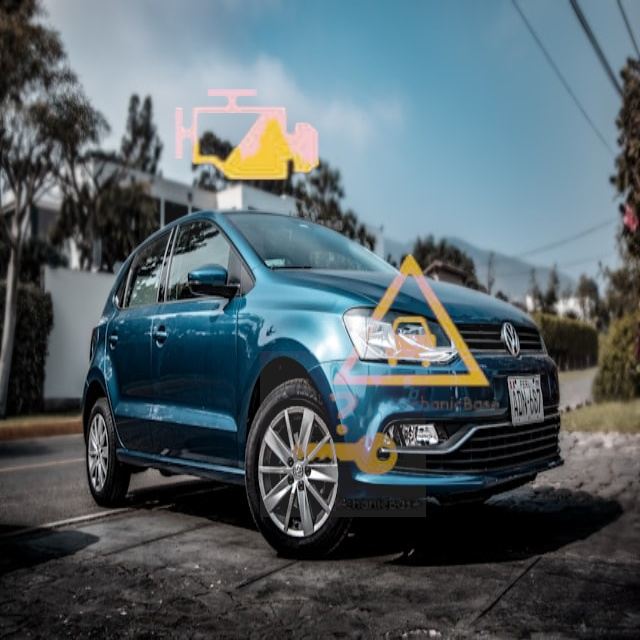symbol: (139, 29, 351, 241), (312, 225, 507, 420), (260, 351, 426, 517)
